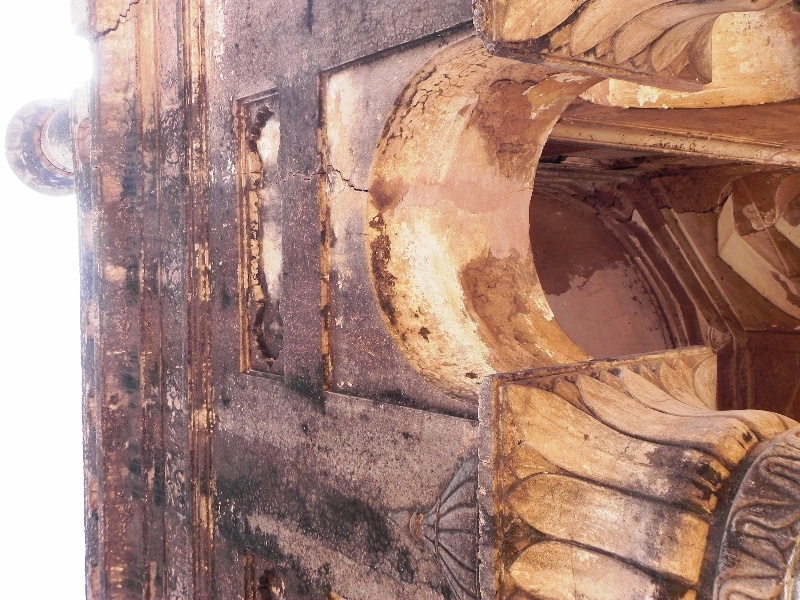Crack: (89, 2, 141, 40), (322, 160, 366, 192)
